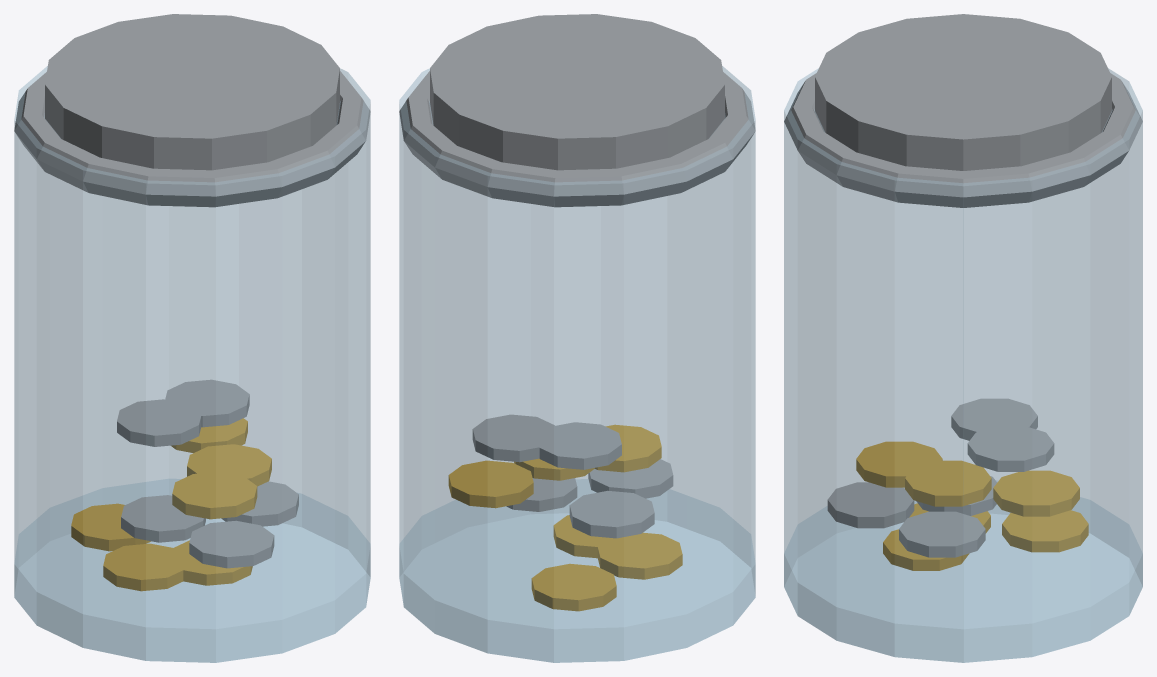
Rendered from coin_jar.glb.
3 renders of one model, left to right at view 1: azimuth 30°, elevation 25°; view 2: azimuth 150°, elevation 25°; view 3: azimuth 270°, elevation 25°, orthographic.
Parts seen in each view (by area): view 1: coin_jar; view 2: coin_jar; view 3: coin_jar.
Part boxes in pixels (x1,y1,x2,y2): coin_jar: (14, 14, 370, 662); coin_jar: (399, 14, 755, 662); coin_jar: (784, 14, 1142, 662).
Bounding box in the file's own units: 0.116 × 0.182 × 0.116.
